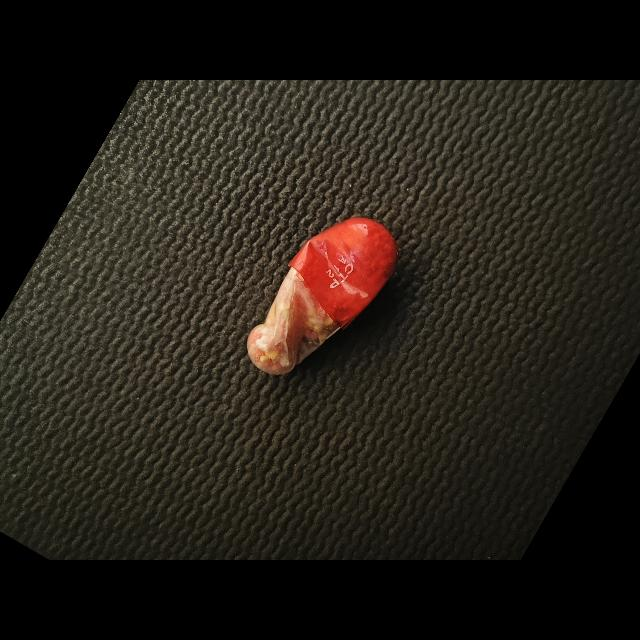Defective Capsule: (247, 218, 398, 374)
